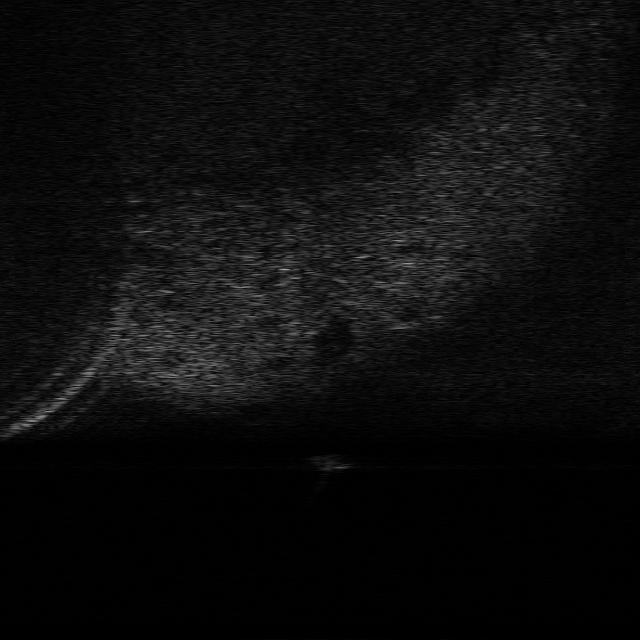cube: (306, 454, 358, 470)
